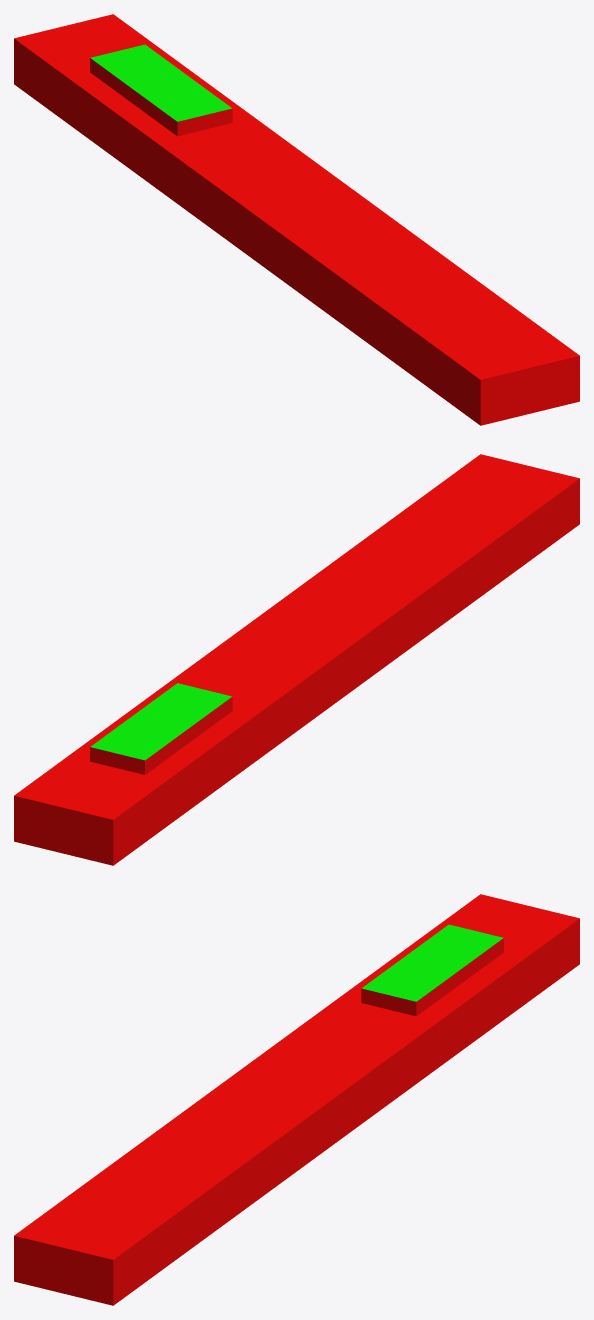
Rendered from labeled.obj.
The picture shows the model from 3 angles, top to bottom: view 1: azimuth 30°, elevation 25°; view 2: azimuth 150°, elevation 25°; view 3: azimuth 330°, elevation 25°; orthographic projection.
Bounding box in the file's own units: 0.0187 × 0.0109 × 0.1519.
